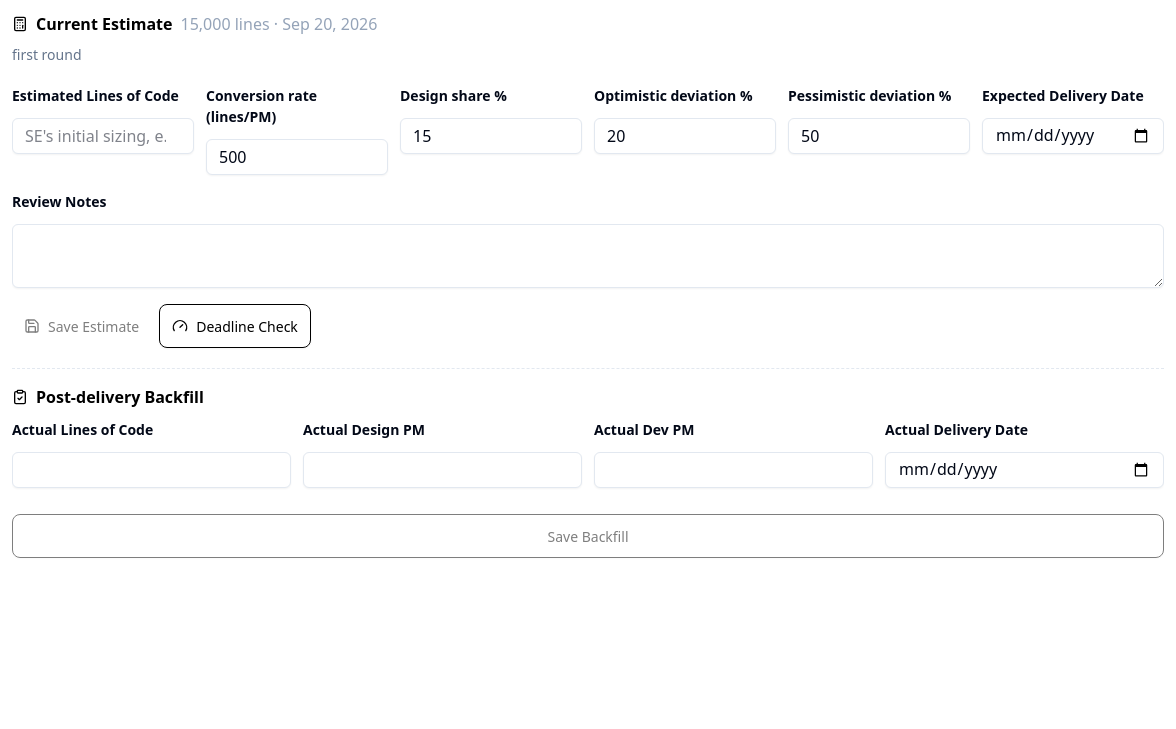
Test: EstimationPanel › R08: editing the form after a check marks the old result stale
Check: the text "Current Estimate" is shown, box 36,12 -> 172,36
Click the button "Deadline Check" at (235,326), box 159,304 -> 311,348
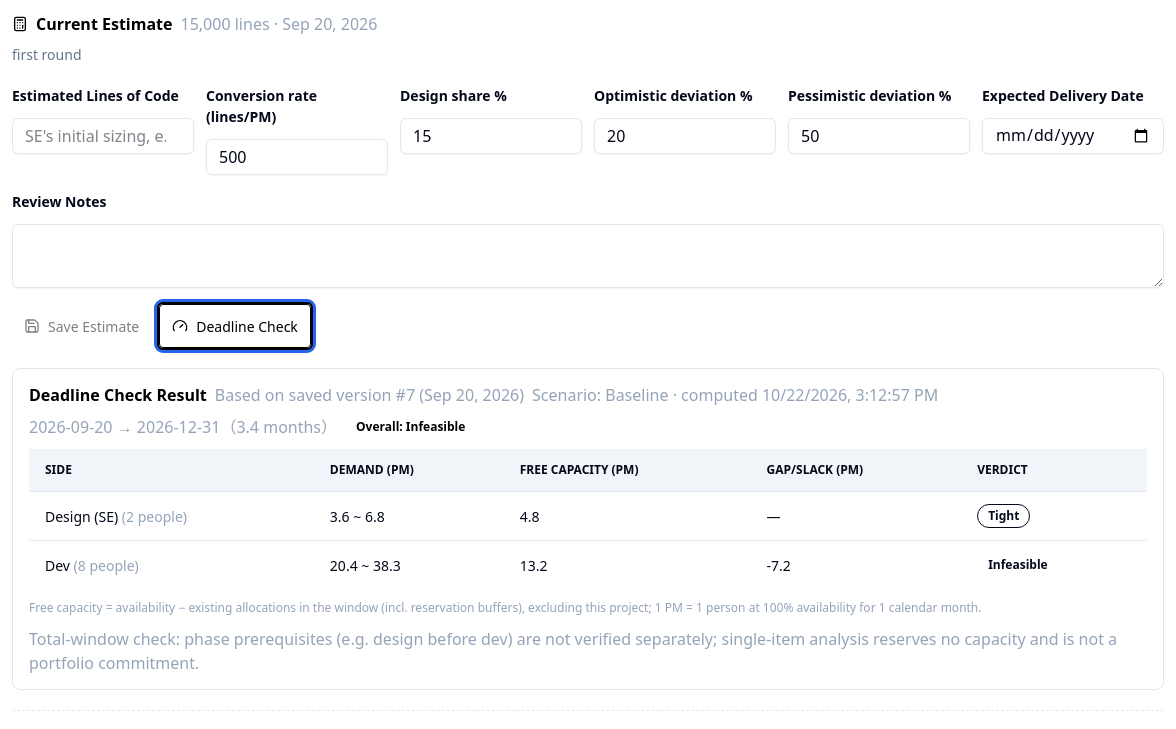
Check: the text "Inputs changed" is not shown
Check: the text "Overall: Infeasible" is shown, box 356,418 -> 465,435
Type "4000" into the number field labelled "Estimated Lines of Code" at (103,136), box 12,118 -> 194,154
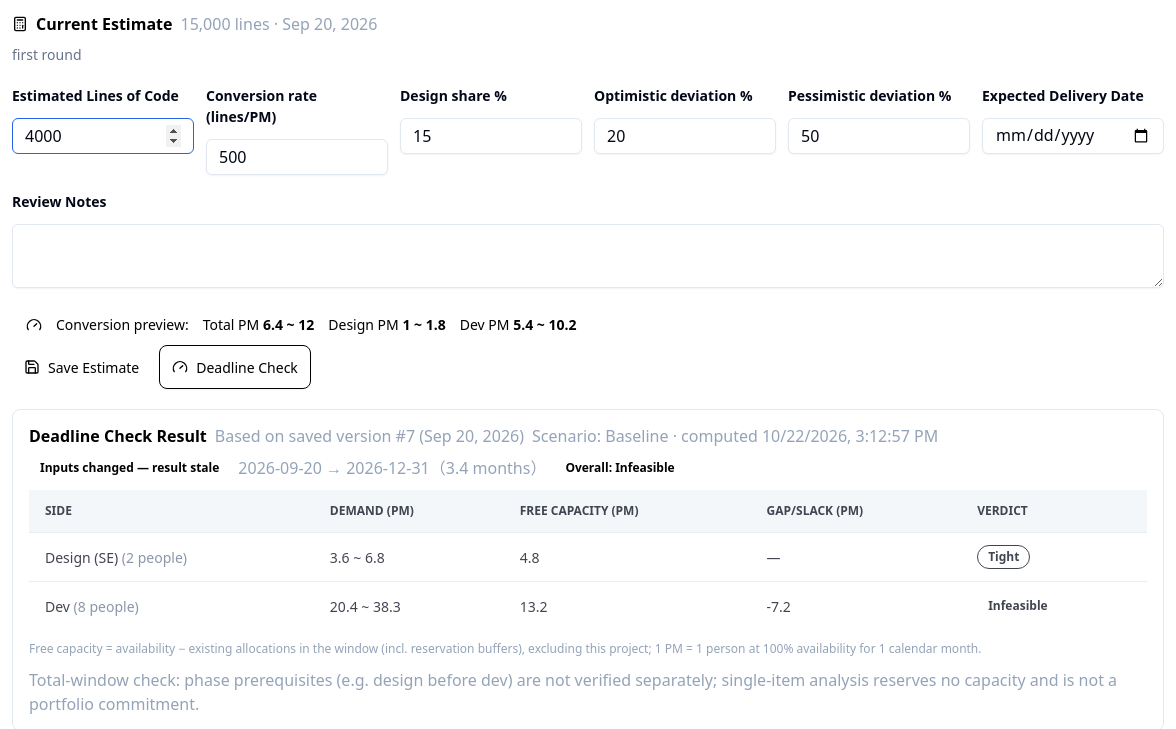
Check: the text "Inputs changed — result stale" is shown, box 29,456 -> 230,480
